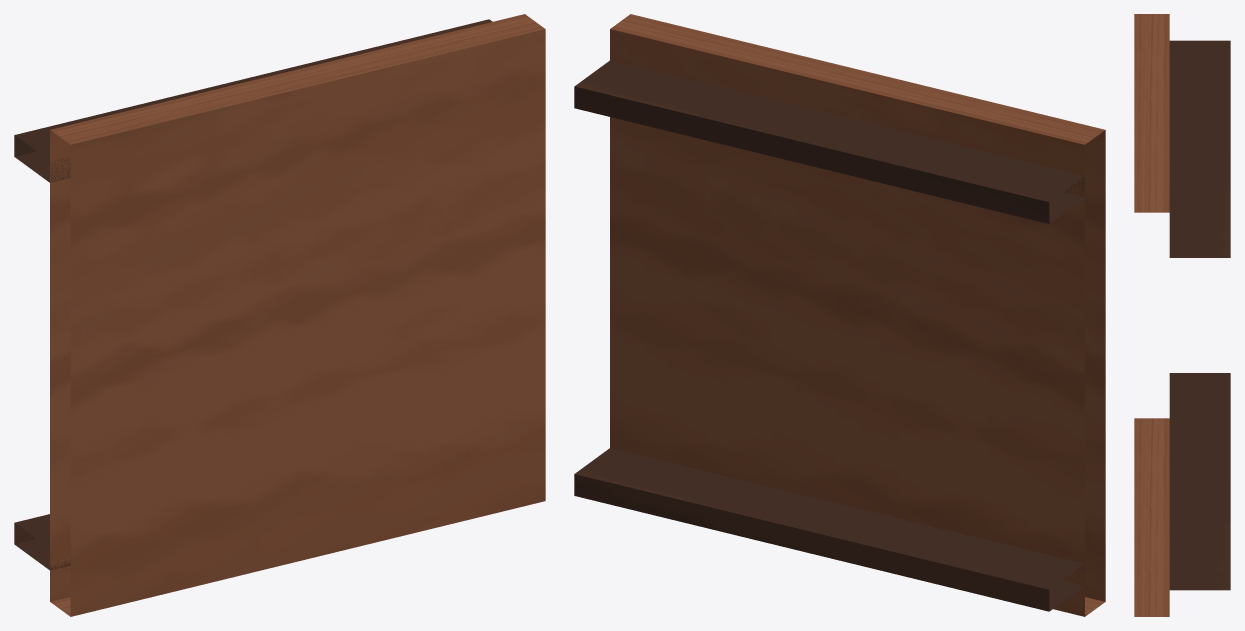
The model's file is pz_table_tables_high_02_long_dark_oak_1_0.obj.
3 renders of one model, left to right at view 1: azimuth 30°, elevation 25°; view 2: azimuth 150°, elevation 25°; view 3: azimuth 270°, elevation 25°, orthographic. The views are drawn at different scales.
Size of the model in its own units: 1 by 0.95 by 0.205.
Materials: 1 (1 with a texture image).
